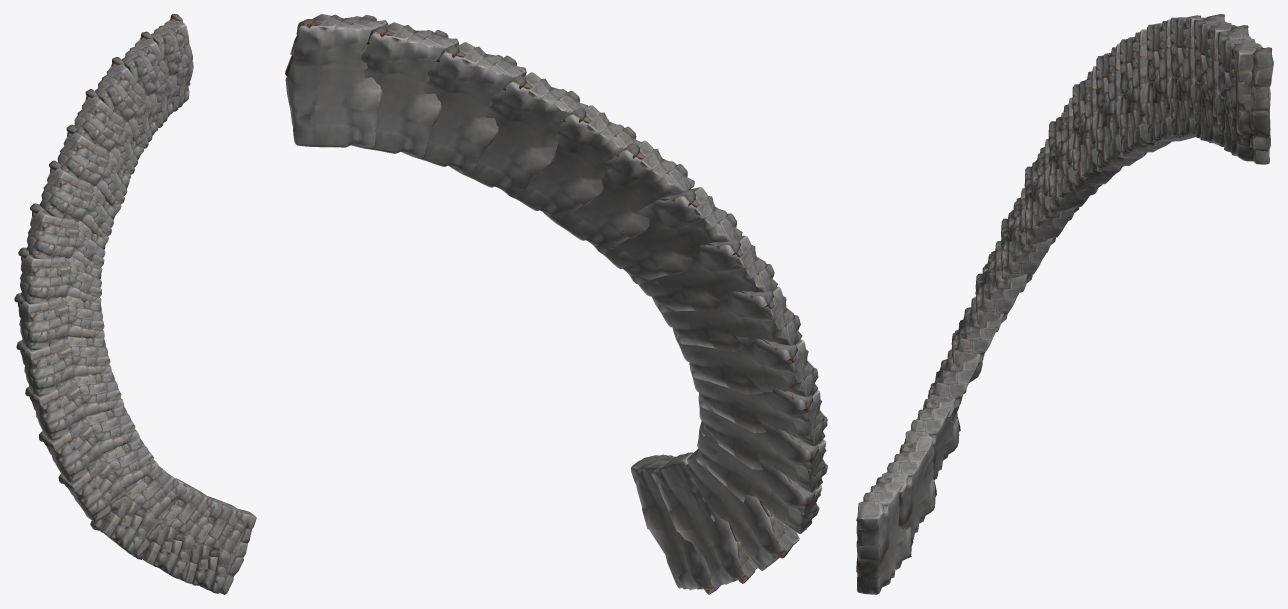
Rendered from Dn_HL_SD09_Staircase_A.fbx.
3 renders of one model, left to right at view 1: azimuth 30°, elevation 25°; view 2: azimuth 150°, elevation 25°; view 3: azimuth 270°, elevation 25°, orthographic. The views are drawn at different scales.
Parts seen in each view (by area): view 1: Dn_HL_SD09_Staircase_A; view 2: Dn_HL_SD09_Staircase_A; view 3: Dn_HL_SD09_Staircase_A.
Part boxes in pixels (x1,y1,x2,y2): Dn_HL_SD09_Staircase_A: (14, 14, 256, 594); Dn_HL_SD09_Staircase_A: (285, 14, 827, 594); Dn_HL_SD09_Staircase_A: (856, 14, 1273, 594).
Bounding box in the file's own units: 3339 × 5693 × 3521.
